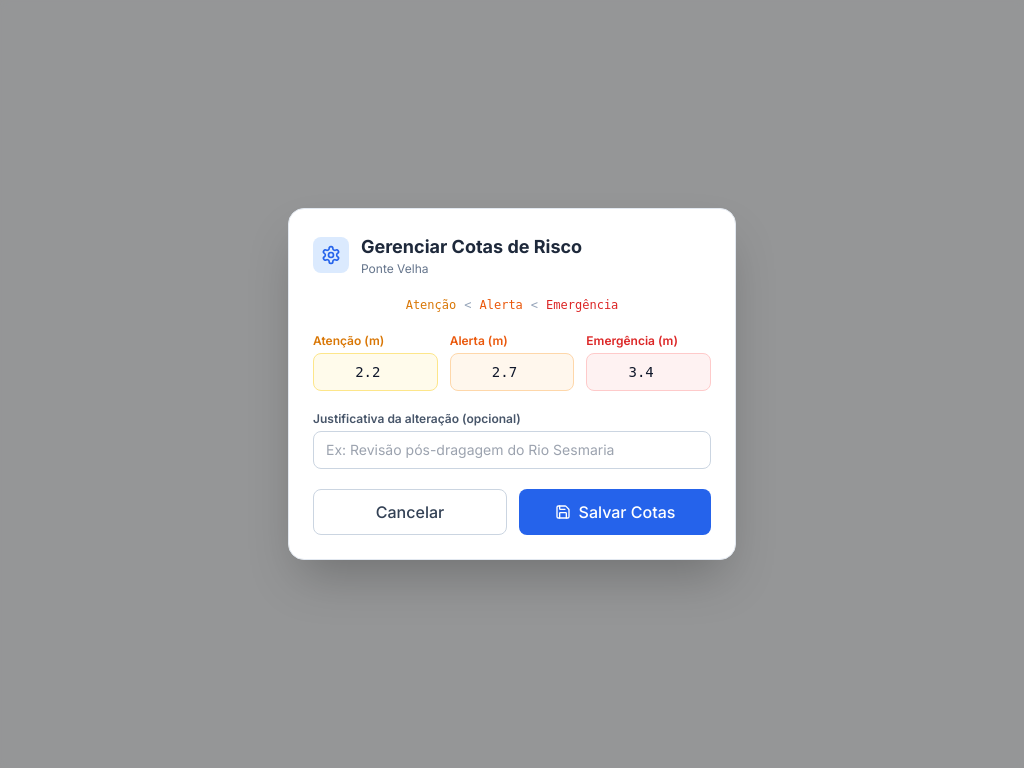
Test: ModalGerenciarCotas › abre o ConfirmModal e executa atualizarCotas após confirmação
Later steps or results of the test are not shown.
Replace the text in the number field labelled "Atenção (m)" with "2.3" at (375, 372), box [313,353,438,391]
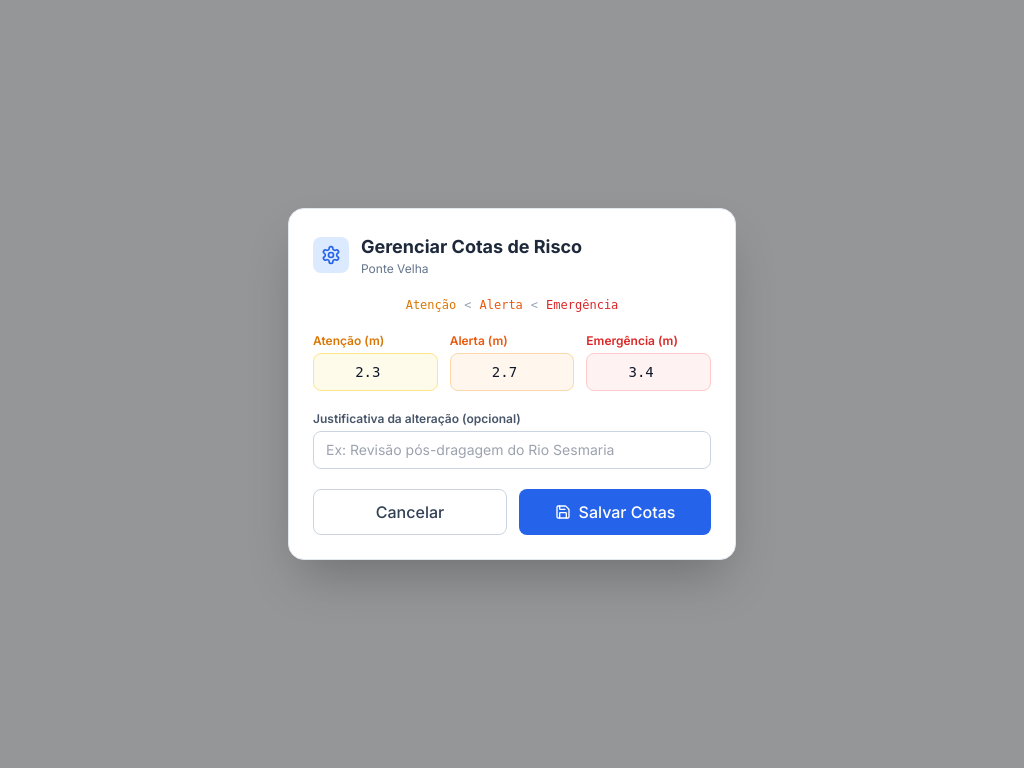
Replace the text in the number field labelled "Alerta (m)" with "2.8" at (512, 372), box [450,353,574,391]
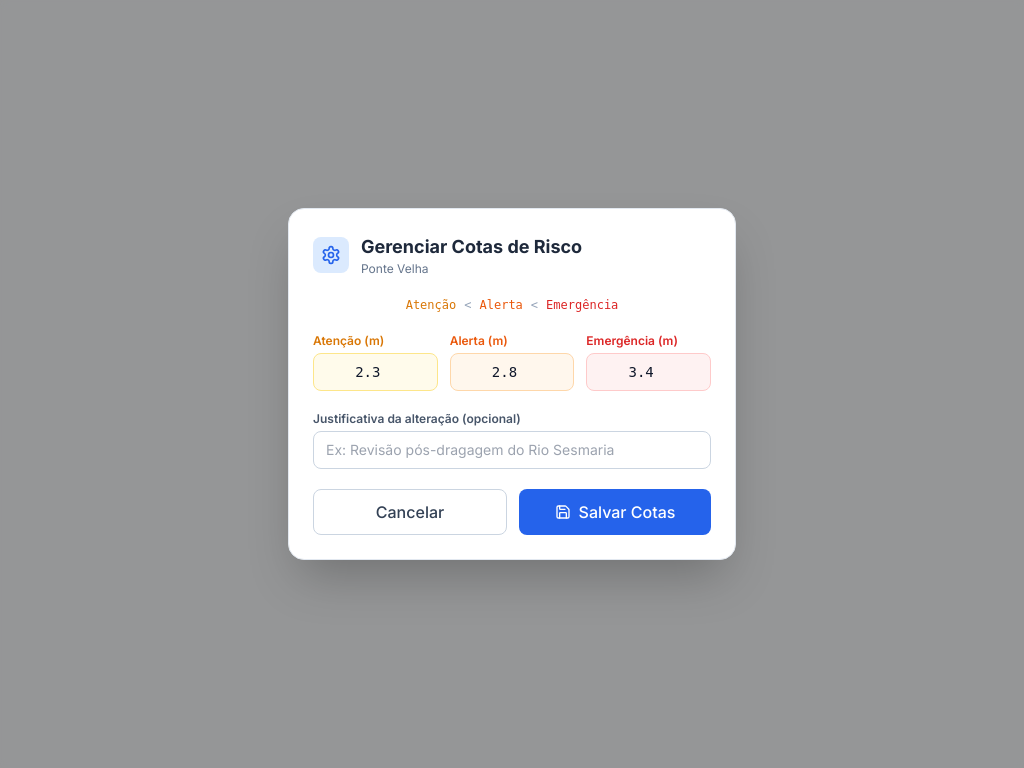
Replace the text in the number field labelled "Emergência (m)" with "3.5" at (649, 372), box [586,353,711,391]
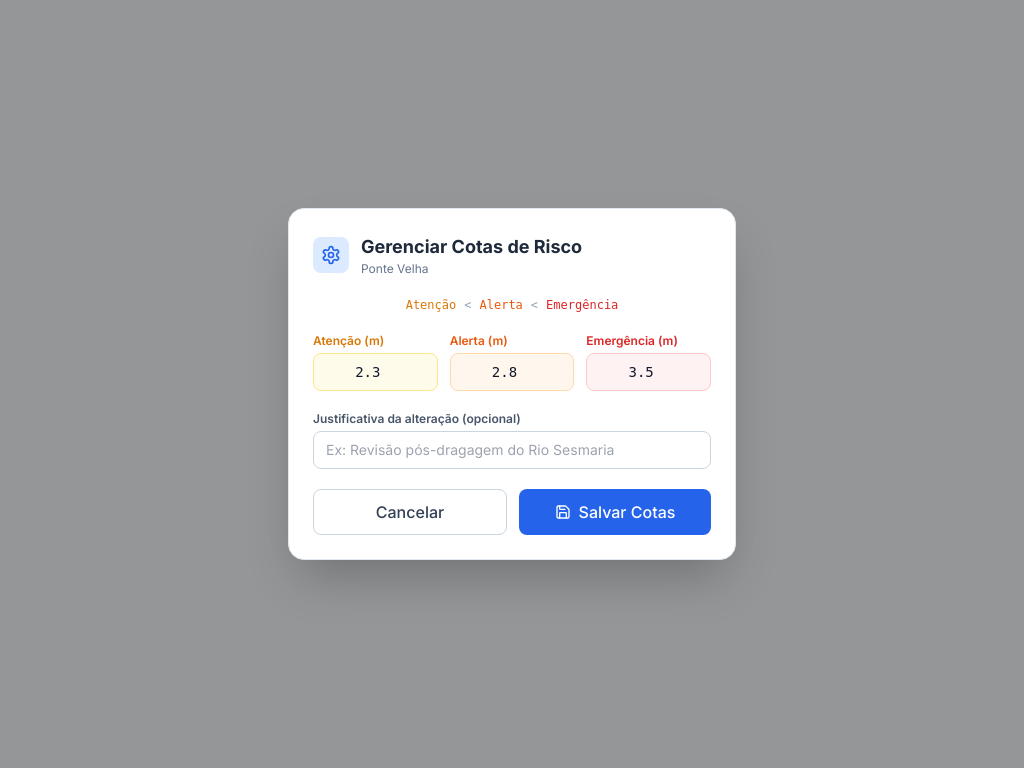
Click the button "Salvar Cotas" at (615, 512), box [519,489,711,535]
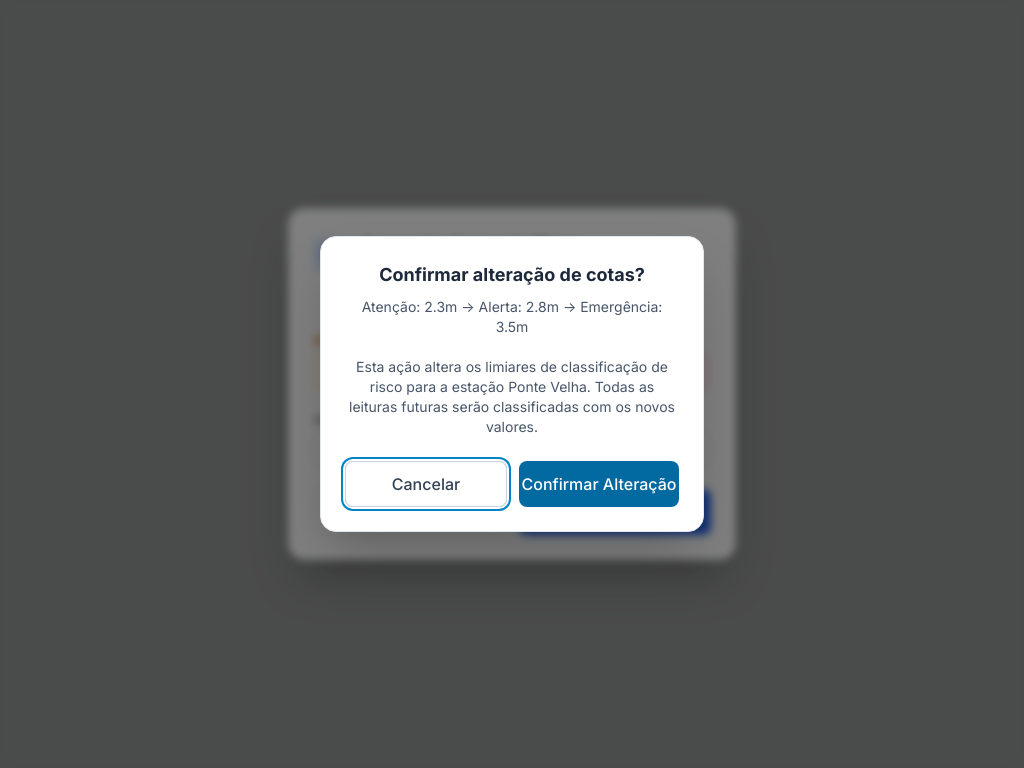
Expected: the heading "Confirmar alteração de cotas?" is shown, [379,264,645,285]
